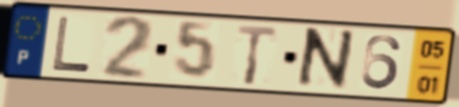2: (100, 14, 156, 82)
5: (175, 19, 220, 85)
6: (360, 33, 404, 93)
L: (50, 15, 94, 75)
N: (292, 25, 358, 93)
T: (234, 23, 280, 88)
